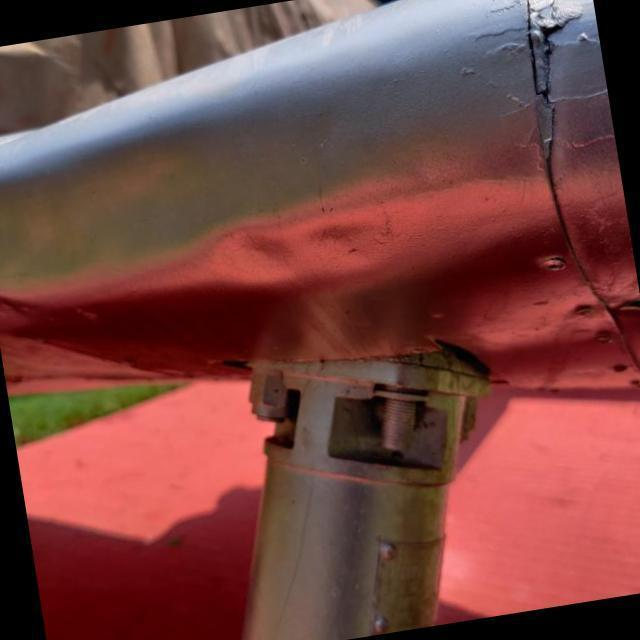dent: (185, 190, 403, 300)
